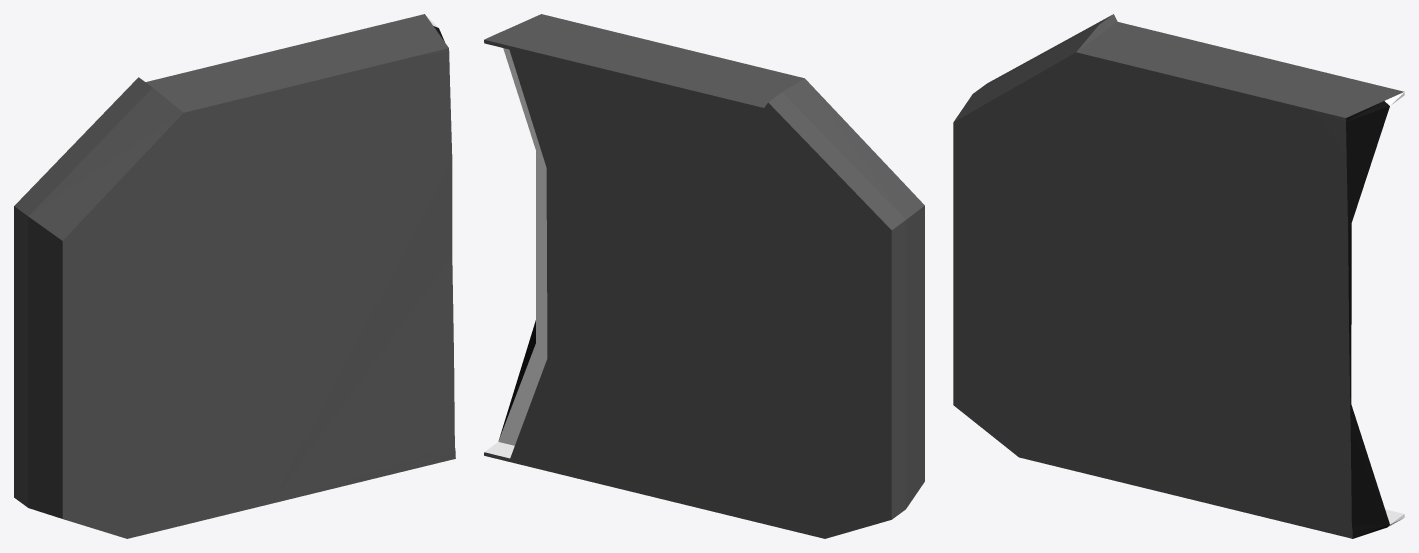
3 renders of one model, left to right at view 1: azimuth 30°, elevation 25°; view 2: azimuth 150°, elevation 25°; view 3: azimuth 330°, elevation 25°, orthographic. The views are drawn at different scales.
Visible parts, largest first — view 1: Door_R; view 2: Door_R; view 3: Door_R.
Boxes of the visible parts, bbox=[...] form: Door_R: bbox=[14, 14, 455, 538]; Door_R: bbox=[484, 14, 924, 538]; Door_R: bbox=[953, 14, 1404, 538].
Bounding box in the file's own units: 302 × 300 × 52.98.
4 materials, 2 textured.
